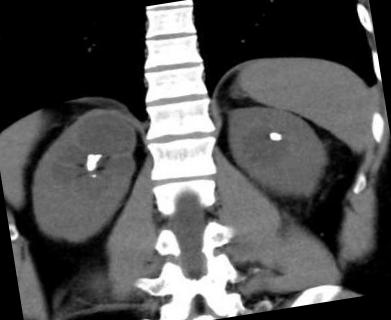Tas_Var: (80, 150, 104, 173), (265, 128, 285, 146), (88, 172, 99, 179)
